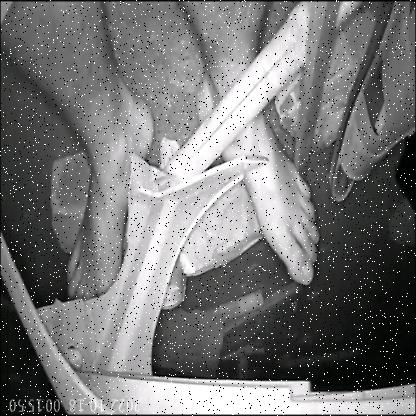leg: (0, 0, 162, 306), (178, 0, 327, 293)
